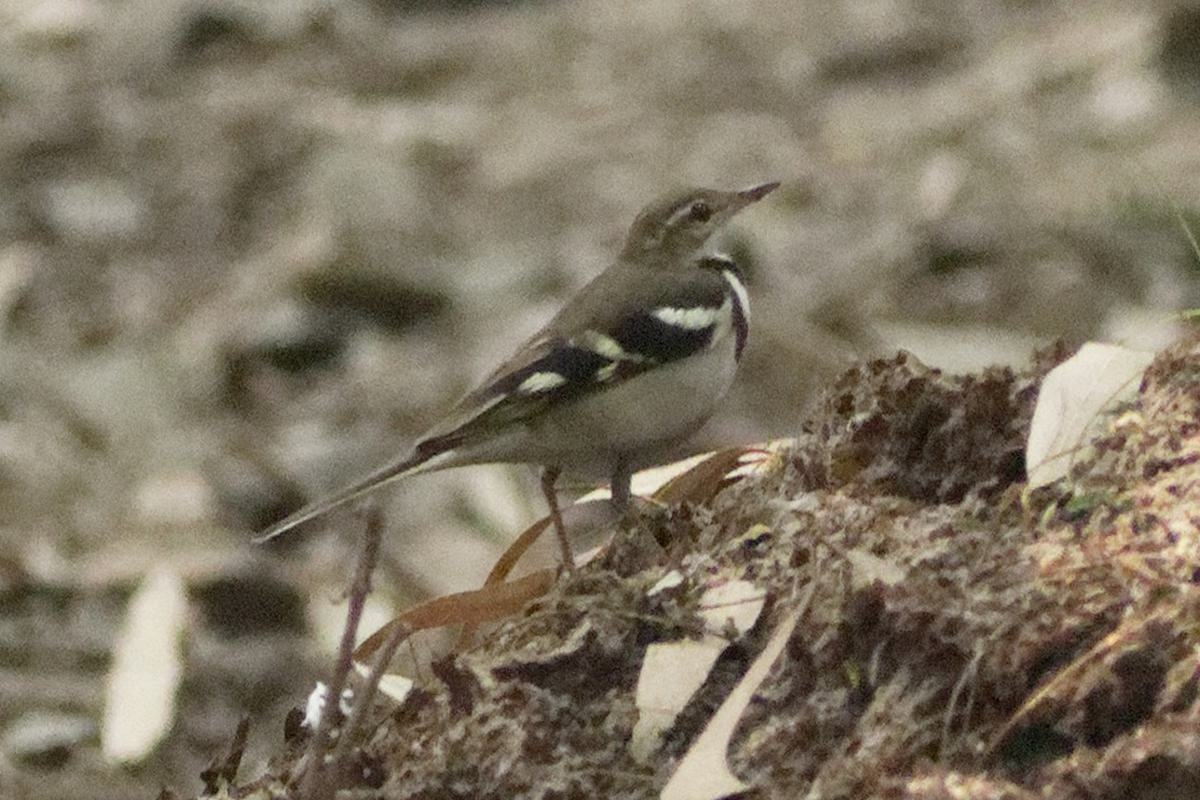wagtail: (316, 163, 798, 564)
